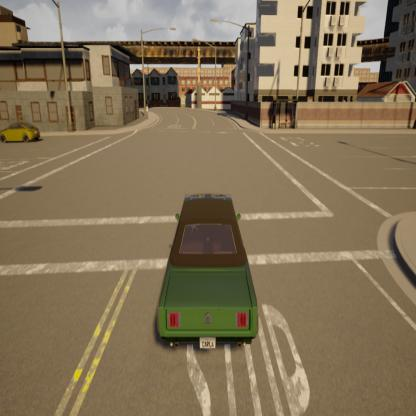Cars: (158, 195, 258, 348), (0, 121, 39, 144)
Pedestrian: (145, 103, 149, 119)
